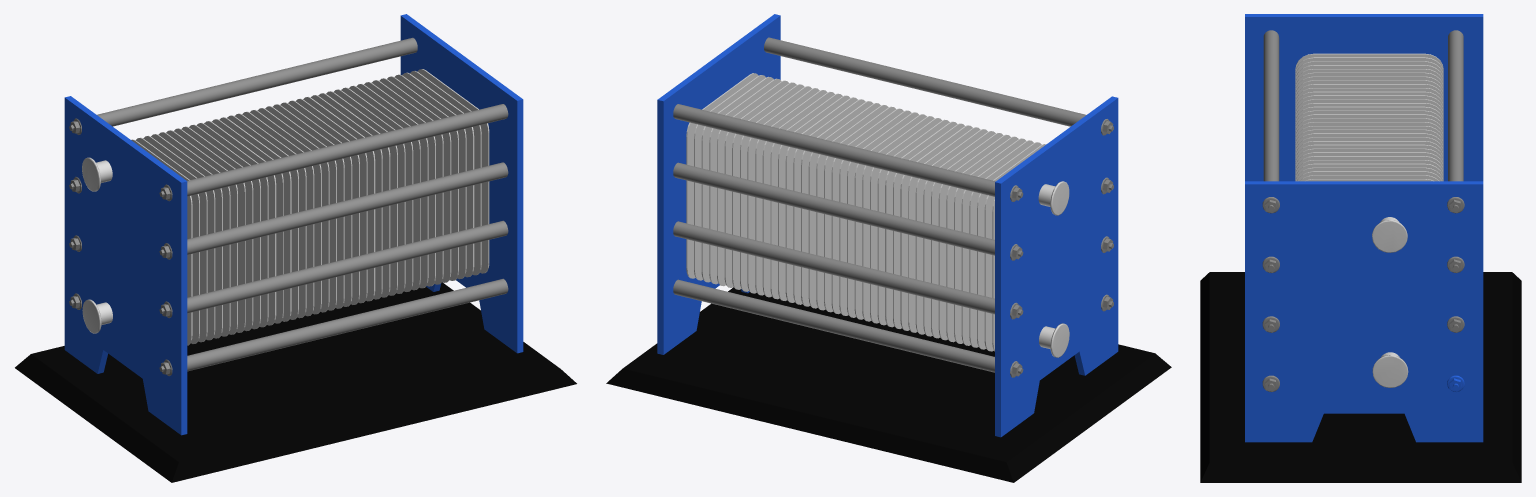
Rendered from 板式换热器-制冷.glb.
3 views of the same model, side by side, from view 1: azimuth 30°, elevation 25°; view 2: azimuth 150°, elevation 25°; view 3: azimuth 270°, elevation 25° (orthographic). The views are drawn at different scales.
Visible parts, largest first — view 1: 平面.069, 立方体.311, 立方体.313, 立方体.312, 柱体.395, 柱体.398, 柱体.401, 柱体.380, 柱体.404; view 2: 平面.069, 立方体.311, 立方体.313, 立方体.312, 柱体.414, 柱体.417, 柱体.404, 柱体.411, 柱体.380; view 3: 立方体.312, 立方体.311, 平面.069, 立方体.313, 柱体.380, 柱体.404, 柱体.379, 柱体.377.
Boxes of the visible parts, <box> form: 平面.069: <box>131,69,489,345</box>; 立方体.311: <box>15,282,576,482</box>; 立方体.313: <box>64,96,187,435</box>; 立方体.312: <box>400,14,523,353</box>; 柱体.395: <box>187,162,508,254</box>; 柱体.398: <box>187,220,508,313</box>; 柱体.401: <box>187,278,508,371</box>; 柱体.380: <box>187,104,508,196</box>; 柱体.404: <box>97,37,417,126</box>; 平面.069: <box>686,73,1045,351</box>; 立方体.311: <box>606,287,1171,482</box>; 立方体.313: <box>995,96,1118,437</box>; 立方体.312: <box>657,14,780,354</box>; 柱体.414: <box>673,221,994,314</box>; 柱体.417: <box>673,279,994,372</box>; 柱体.404: <box>673,104,995,196</box>; 柱体.411: <box>673,162,994,255</box>; 柱体.380: <box>764,37,1085,126</box>; 立方体.312: <box>1245,181,1483,442</box>; 立方体.311: <box>1200,272,1521,482</box>; 平面.069: <box>1295,53,1443,181</box>; 立方体.313: <box>1245,14,1483,181</box>; 柱体.380: <box>1263,30,1279,181</box>; 柱体.404: <box>1448,30,1463,181</box>; 柱体.379: <box>1372,355,1408,387</box>; 柱体.377: <box>1372,220,1407,252</box>.
Bounding box in the file's own units: 145 × 94.43 × 97.36.
